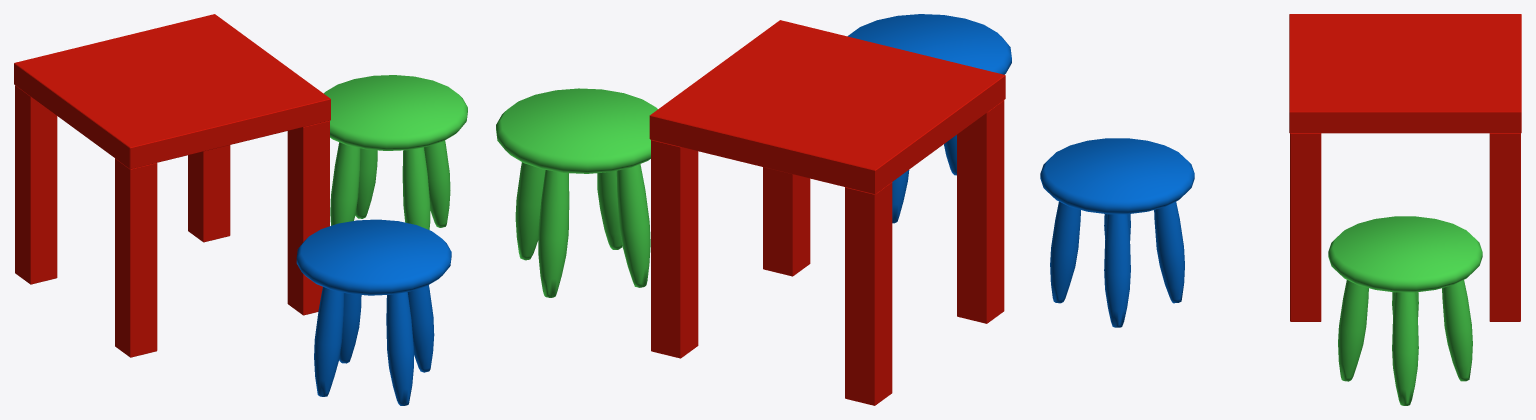
The model's file is m_furniture.fbx.
The picture shows the model from 3 angles, left to right: view 1: azimuth 30°, elevation 25°; view 2: azimuth 150°, elevation 25°; view 3: azimuth 270°, elevation 25°; orthographic projection. The views are drawn at different scales.
Visible parts, largest first — view 1: m_table, m_chair.001, m_chair; view 2: m_table, m_chair, m_chair.001; view 3: m_table, m_chair, m_chair.001.
Boxes of the visible parts, x1,y1,x2,y2 form: m_table: (14, 14, 330, 357); m_chair.001: (296, 219, 451, 405); m_chair: (324, 75, 467, 229); m_table: (649, 20, 1005, 405); m_chair: (496, 88, 657, 297); m_chair.001: (847, 14, 1011, 223); m_table: (1289, 14, 1521, 321); m_chair: (1328, 216, 1482, 405); m_chair.001: (1040, 138, 1194, 327).
Bounding box in the file's own units: 0.7657 × 0.4006 × 0.8287.
